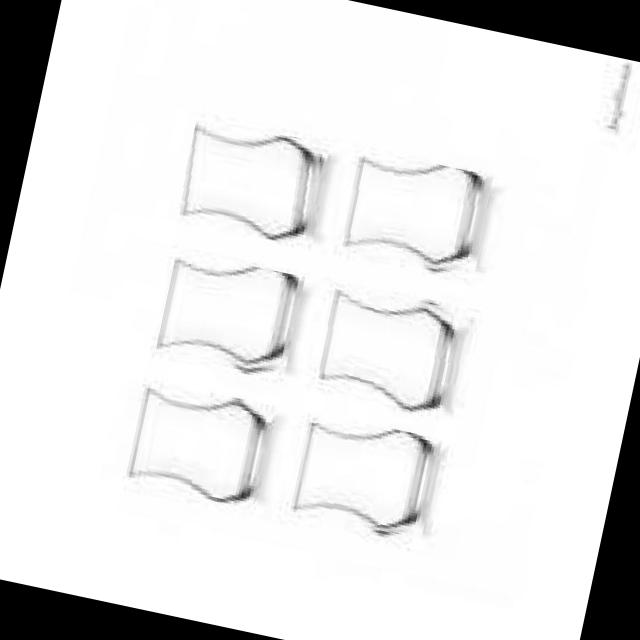Glass: (309, 274, 477, 422), (338, 147, 496, 283), (287, 409, 442, 544), (151, 248, 305, 382), (175, 116, 330, 248), (122, 376, 276, 508)
